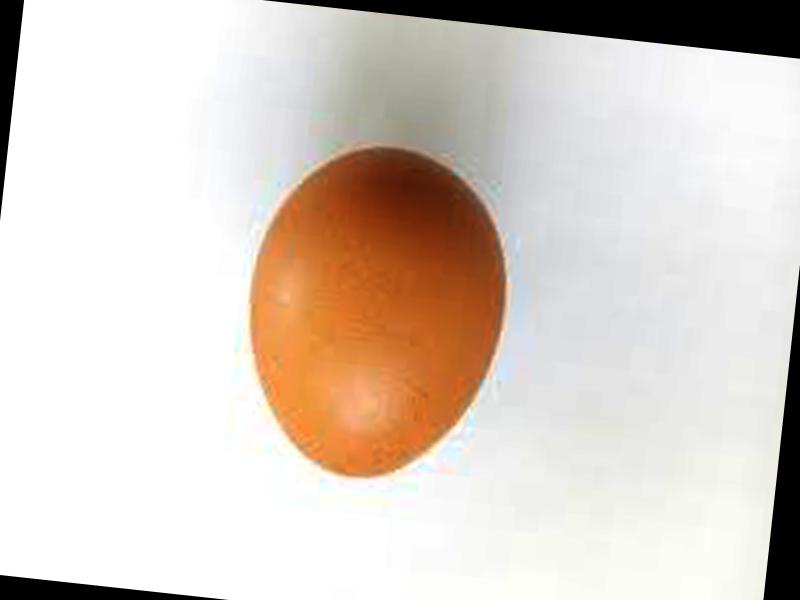Eggs: (234, 131, 523, 496)
